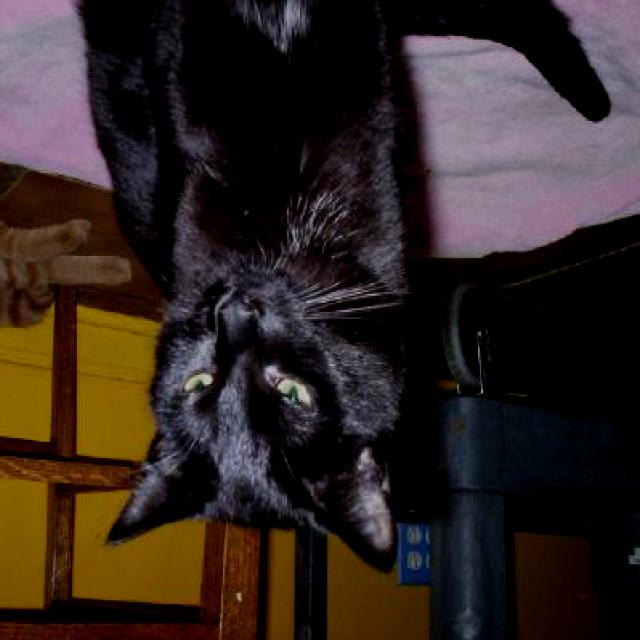Kucing: (27, 0, 579, 602)
